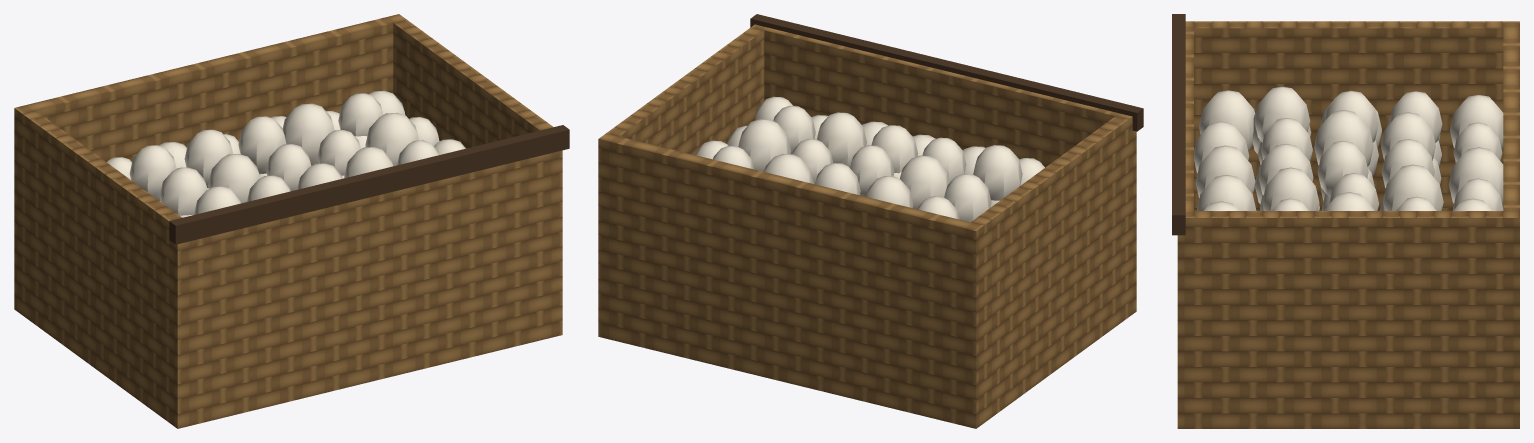
Rendered from tpl_dispensa_cesto_uova.glb.
3 renders of one model, left to right at view 1: azimuth 30°, elevation 25°; view 2: azimuth 150°, elevation 25°; view 3: azimuth 270°, elevation 25°, orthographic. The views are drawn at different scales.
Visible parts, largest first — view 1: tpl_dispensa_cesto_uova; view 2: tpl_dispensa_cesto_uova; view 3: tpl_dispensa_cesto_uova.
Boxes of the visible parts, x1,y1,x2,y2 form: tpl_dispensa_cesto_uova: [14, 14, 569, 428]; tpl_dispensa_cesto_uova: [598, 14, 1143, 428]; tpl_dispensa_cesto_uova: [1172, 14, 1519, 428].
Size of the model in its own units: 0.348 by 0.174 by 0.254.
3 materials, 1 textured.
